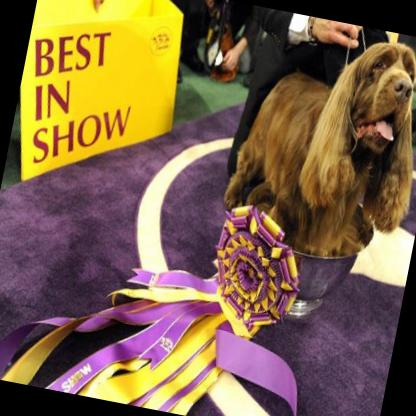Sussex_spaniel: (215, 14, 416, 273)
